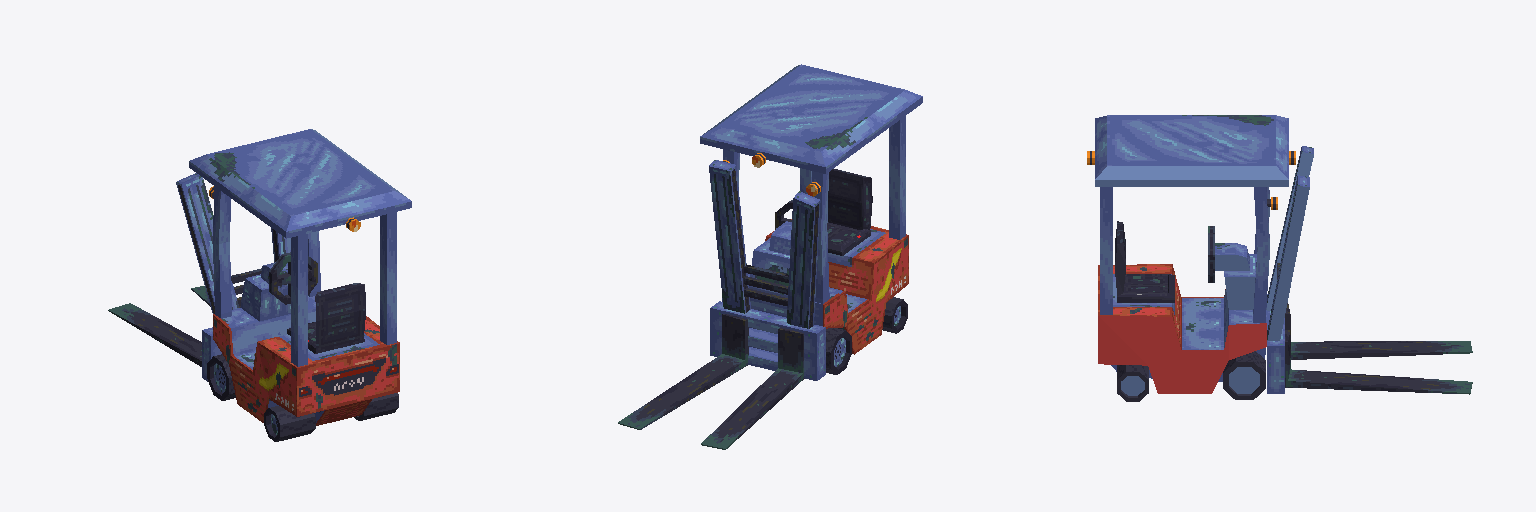
3 views of the same model, side by side, from view 1: azimuth 30°, elevation 25°; view 2: azimuth 150°, elevation 25°; view 3: azimuth 270°, elevation 25° (orthographic).
Visible parts, largest first — view 1: cuboid, cylinder, cuboid_selection; view 2: cuboid, cuboid_selection, cylinder; view 3: cuboid, cylinder, cuboid_selection.
Part boxes in pixels (bbox=[...]): cuboid: bbox=[108, 129, 411, 425]; cylinder: bbox=[207, 186, 398, 441]; cuboid_selection: bbox=[176, 173, 290, 313]; cuboid: bbox=[618, 64, 922, 449]; cuboid_selection: bbox=[709, 160, 820, 328]; cylinder: bbox=[723, 153, 907, 374]; cuboid: bbox=[1095, 115, 1472, 394]; cylinder: bbox=[1087, 151, 1295, 401]; cuboid_selection: bbox=[1267, 146, 1313, 340].
Size of the model in its own units: 3.66 by 6.36 by 9.62.
Materials: 1 (1 with a texture image).